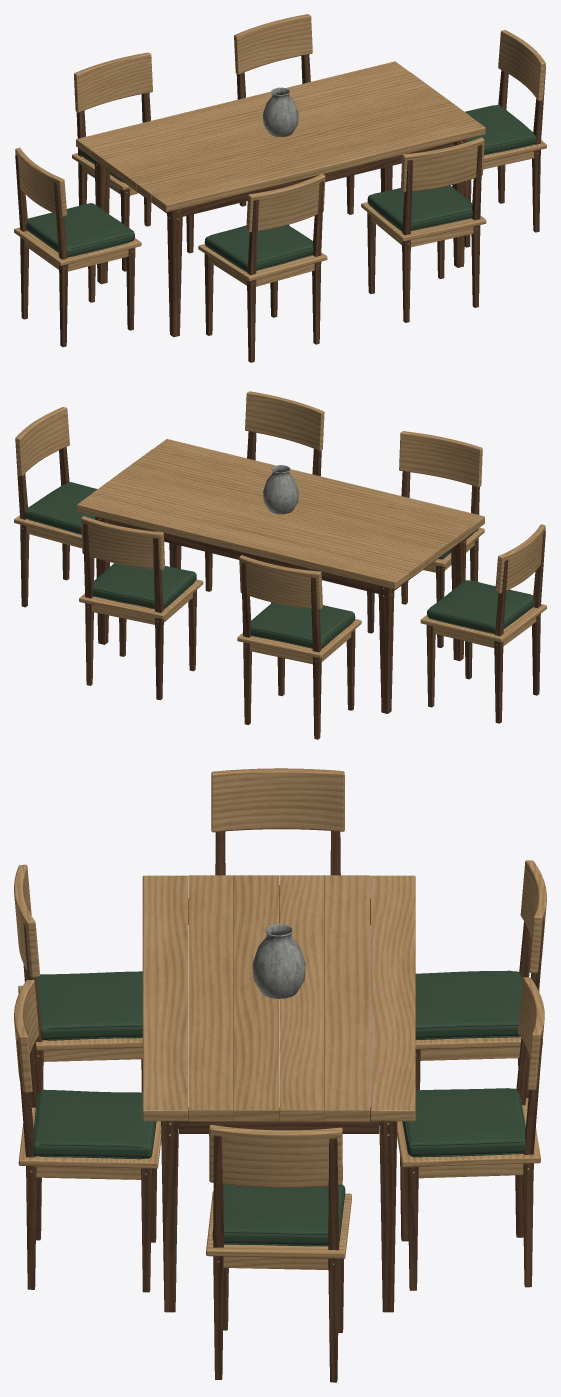
Rendered from noi-that-ban-an.glb.
3 renders of one model, top to bottom at view 1: azimuth 30°, elevation 25°; view 2: azimuth 150°, elevation 25°; view 3: azimuth 270°, elevation 25°, orthographic. The views are drawn at different scales.
Parts seen in each view (by area): view 1: TableTop, Chair_5_pad, Chair_1_backrail, Chair_2_backrail, Chair_3_pad, Chair_4_pad, Chair_4_backrail, Chair_3_backrail, Chair_3_legs, Chair_5_legs, Chair_4_legs, Chair_6_pad (+22 smaller); view 2: TableTop, Chair_3_backrail, Chair_5_pad, Chair_4_backrail, Chair_1_pad, Chair_2_pad, Chair_2_backrail, Chair_1_backrail, Chair_6_backrail, Chair_5_legs, Chair_1_legs, Chair_2_legs (+23 smaller); view 3: TableTop, Chair_5_backrail, Chair_4_pad, Chair_2_pad, Chair_1_pad, Chair_6_backrail, Chair_3_pad, Chair_6_pad, Chair_2_legs, Chair_4_legs, Chair_6_legs, Vase (+22 smaller).
Boxes of the visible parts, box(x1,y1,x2,y2) form: TableTop: box(76, 61, 485, 212); Chair_5_pad: box(26, 203, 134, 256); Chair_1_backrail: box(74, 52, 152, 112); Chair_2_backrail: box(234, 14, 312, 74); Chair_3_pad: box(204, 225, 313, 272); Chair_4_pad: box(367, 185, 472, 231); Chair_4_backrail: box(401, 137, 484, 192); Chair_3_backrail: box(246, 174, 325, 232); Chair_3_legs: box(204, 253, 321, 362); Chair_5_legs: box(20, 237, 135, 347); Chair_4_legs: box(367, 212, 480, 322); Chair_6_pad: box(465, 105, 536, 155); TableTop: box(77, 439, 484, 589); Chair_3_backrail: box(399, 431, 482, 487); Chair_5_pad: box(427, 580, 534, 634); Chair_4_backrail: box(245, 391, 324, 450); Chair_1_pad: box(250, 602, 355, 648); Chair_2_pad: box(92, 563, 196, 609); Chair_2_backrail: box(81, 516, 164, 570); Chair_1_backrail: box(239, 555, 322, 609); Chair_6_backrail: box(15, 407, 69, 476); Chair_5_legs: box(426, 613, 540, 723); Chair_1_legs: box(243, 629, 355, 739); Chair_2_legs: box(85, 590, 196, 700); TableTop: box(142, 875, 415, 1121); Chair_5_backrail: box(211, 768, 344, 832); Chair_4_pad: box(33, 1089, 156, 1159); Chair_2_pad: box(402, 1088, 525, 1157); Chair_1_pad: box(415, 970, 522, 1039); Chair_6_backrail: box(209, 1125, 342, 1187); Chair_3_pad: box(36, 971, 142, 1040); Chair_6_pad: box(212, 1184, 345, 1246); Chair_2_legs: box(400, 1155, 533, 1290); Chair_4_legs: box(26, 1166, 156, 1292); Chair_6_legs: box(213, 1256, 343, 1382); Vase: box(252, 924, 305, 998).
Size of the model in its own units: 2.76 by 0.97 by 1.7.
5 materials, 5 textured.
